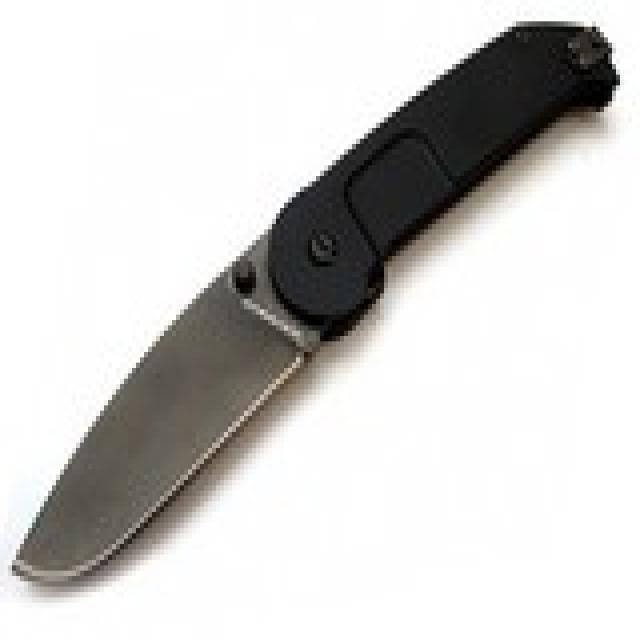Knife: (8, 16, 617, 595)
